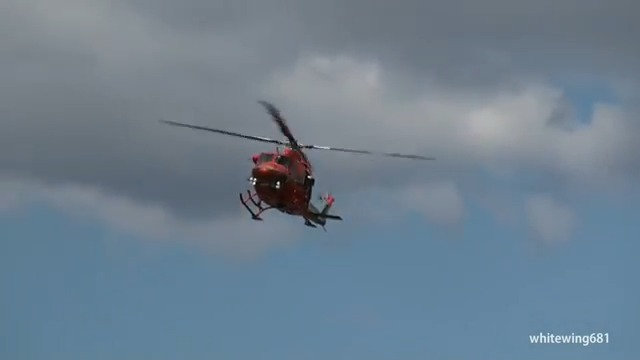helicopter: (215, 86, 350, 242)
